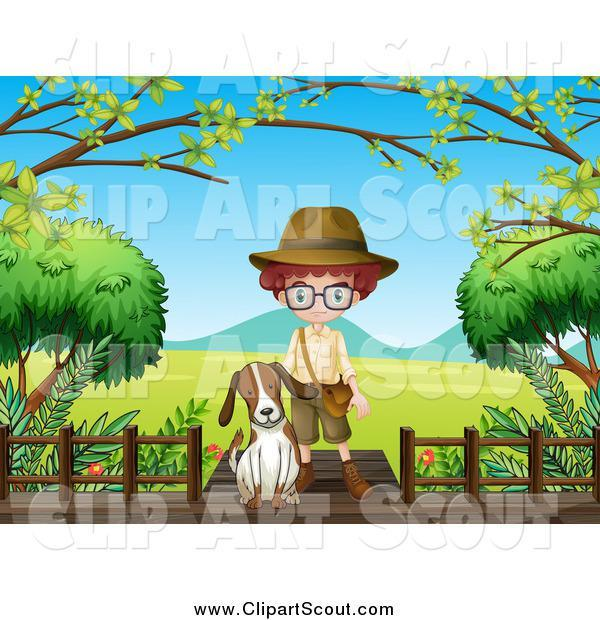dog: (213, 360, 322, 505)
person: (237, 206, 388, 498)
